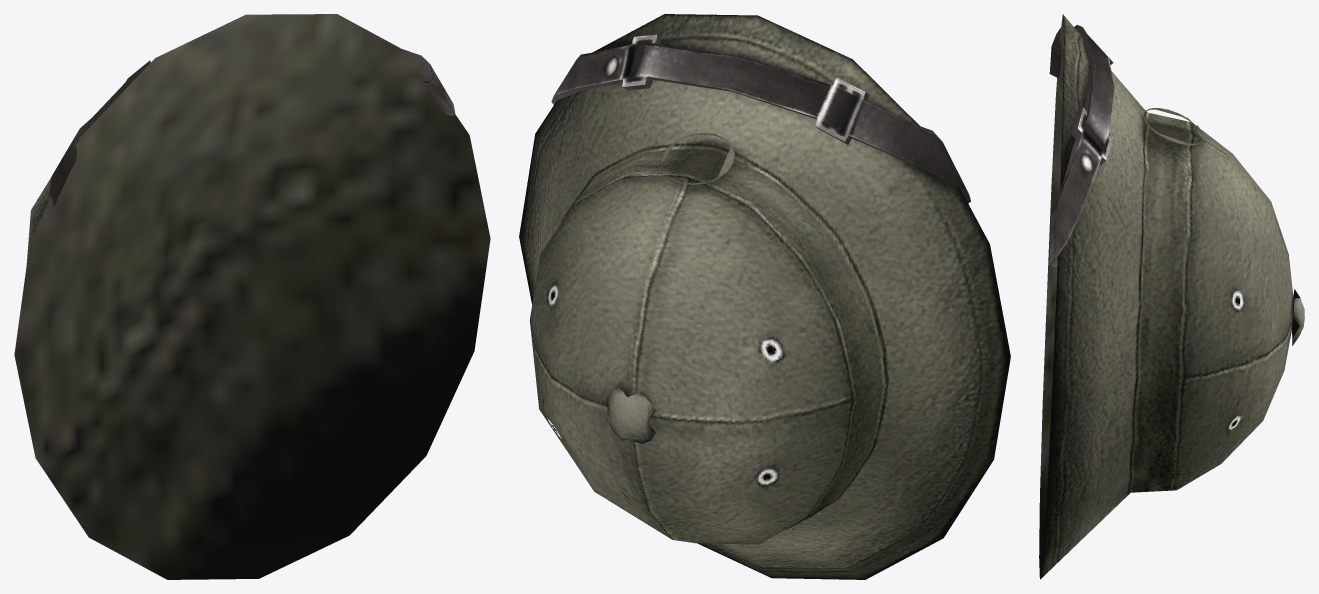
The model's file is pith_faded.glb.
3 views of the same model, side by side, from view 1: azimuth 30°, elevation 25°; view 2: azimuth 150°, elevation 25°; view 3: azimuth 270°, elevation 25° (orthographic). The views are drawn at different scales.
Parts seen in each view (by area): view 1: pith_faded; view 2: pith_faded; view 3: pith_faded.
Part boxes in pixels (x1,y1,x2,y2): pith_faded: [14, 14, 490, 579]; pith_faded: [519, 14, 1010, 579]; pith_faded: [1039, 14, 1304, 579].
Bounding box in the file's own units: 0.2786 × 0.31 × 0.1432.
1 material, 1 textured.
